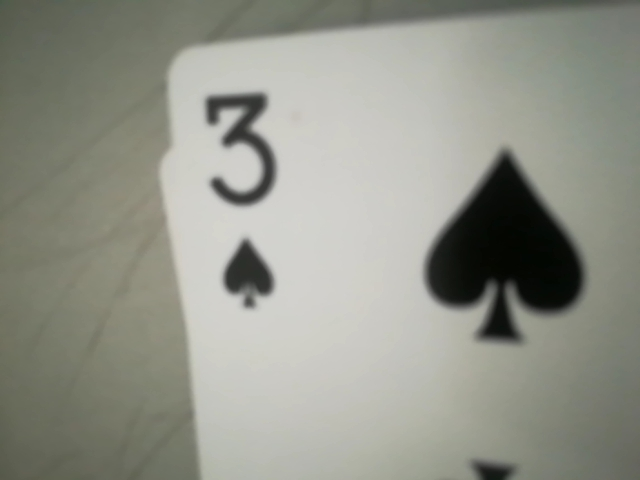ht 3: (190, 63, 291, 333)
